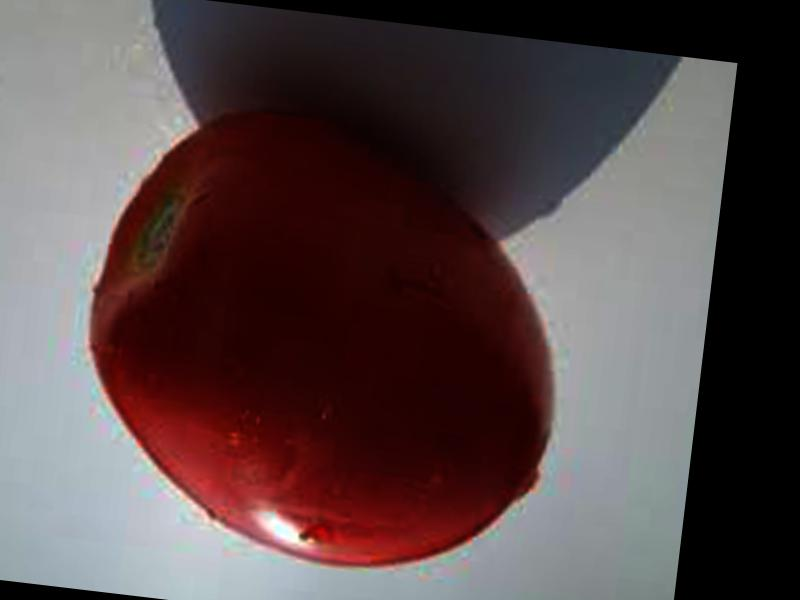Tomato: (66, 95, 581, 589)
